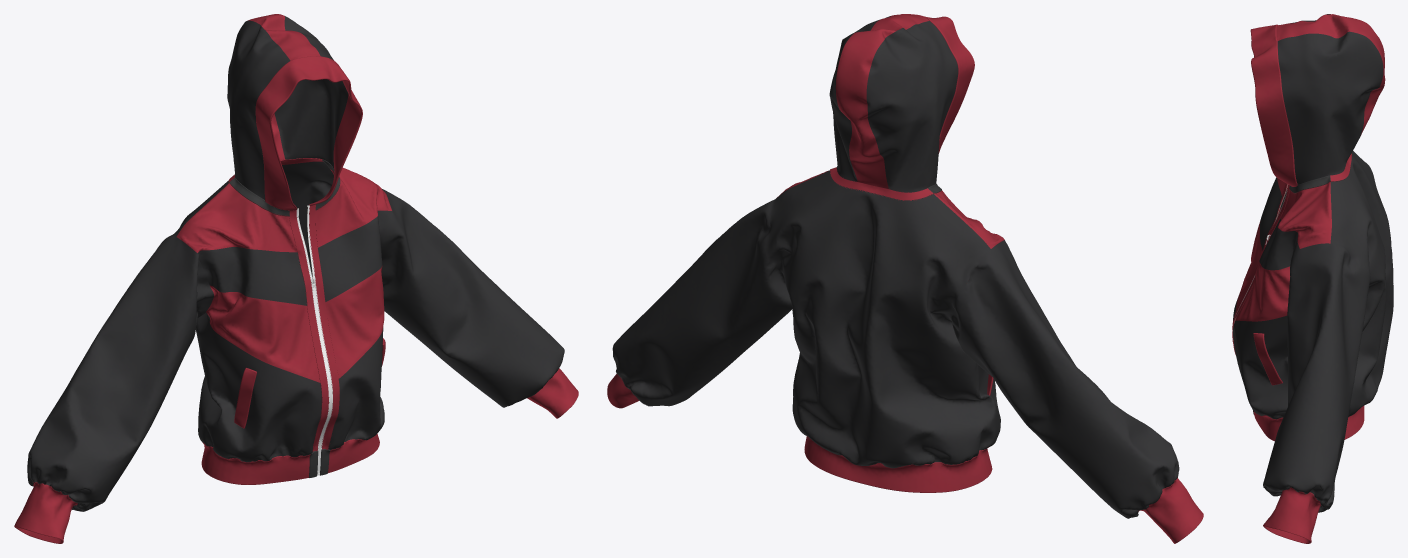
File: hoodie3.glb
3 renders of one model, left to right at view 1: azimuth 30°, elevation 25°; view 2: azimuth 150°, elevation 25°; view 3: azimuth 270°, elevation 25°, orthographic. The views are drawn at different scales.
Parts seen in each view (by area): view 1: Object_12, Object_15, Object_23, Object_22, Object_9, Object_19, Object_18, Object_25, Object_26, Object_20, Object_24, Object_21 (+3 smaller); view 2: Object_17, Object_12, Object_15, Object_9, Object_26, Object_24, Object_23, Object_25, Object_10, Object_19, Object_27; view 3: Object_15, Object_10, Object_17, Object_25, Object_20, Object_26, Object_24, Object_22, Object_23, Object_18, Object_29, Object_27.
Part boxes in pixels (x1,y1,x2,y2): Object_12: (27, 235, 213, 511); Object_15: (380, 189, 564, 407); Object_23: (14, 159, 391, 543); Object_22: (15, 158, 384, 543); Object_9: (227, 20, 348, 199); Object_19: (200, 314, 322, 462); Object_18: (197, 210, 392, 402); Object_25: (208, 56, 362, 484); Object_26: (202, 14, 379, 473); Object_20: (328, 328, 384, 449); Object_24: (201, 113, 578, 474); Object_21: (282, 161, 333, 276); Object_17: (766, 170, 990, 468); Object_12: (951, 240, 1179, 518); Object_15: (612, 199, 792, 406); Object_9: (866, 21, 958, 192); Object_26: (806, 14, 983, 492); Object_24: (607, 374, 993, 492); Object_23: (777, 169, 1203, 543); Object_25: (900, 14, 992, 478); Object_10: (829, 16, 890, 181); Object_19: (973, 363, 1000, 450); Object_27: (830, 167, 933, 200); Object_15: (1263, 243, 1370, 512); Object_10: (1277, 31, 1383, 184); Object_17: (1330, 151, 1393, 416); Object_25: (1250, 24, 1297, 186); Object_20: (1232, 315, 1287, 419); Object_26: (1232, 14, 1385, 440); Object_24: (1253, 333, 1364, 543); Object_22: (1235, 154, 1351, 321); Object_23: (1277, 162, 1346, 248); Object_18: (1233, 177, 1299, 324); Object_29: (1253, 175, 1330, 414); Object_27: (1263, 153, 1351, 441).
Size of the model in its own units: 1129 by 851 by 306.
Materials: 11 (4 with a texture image).
